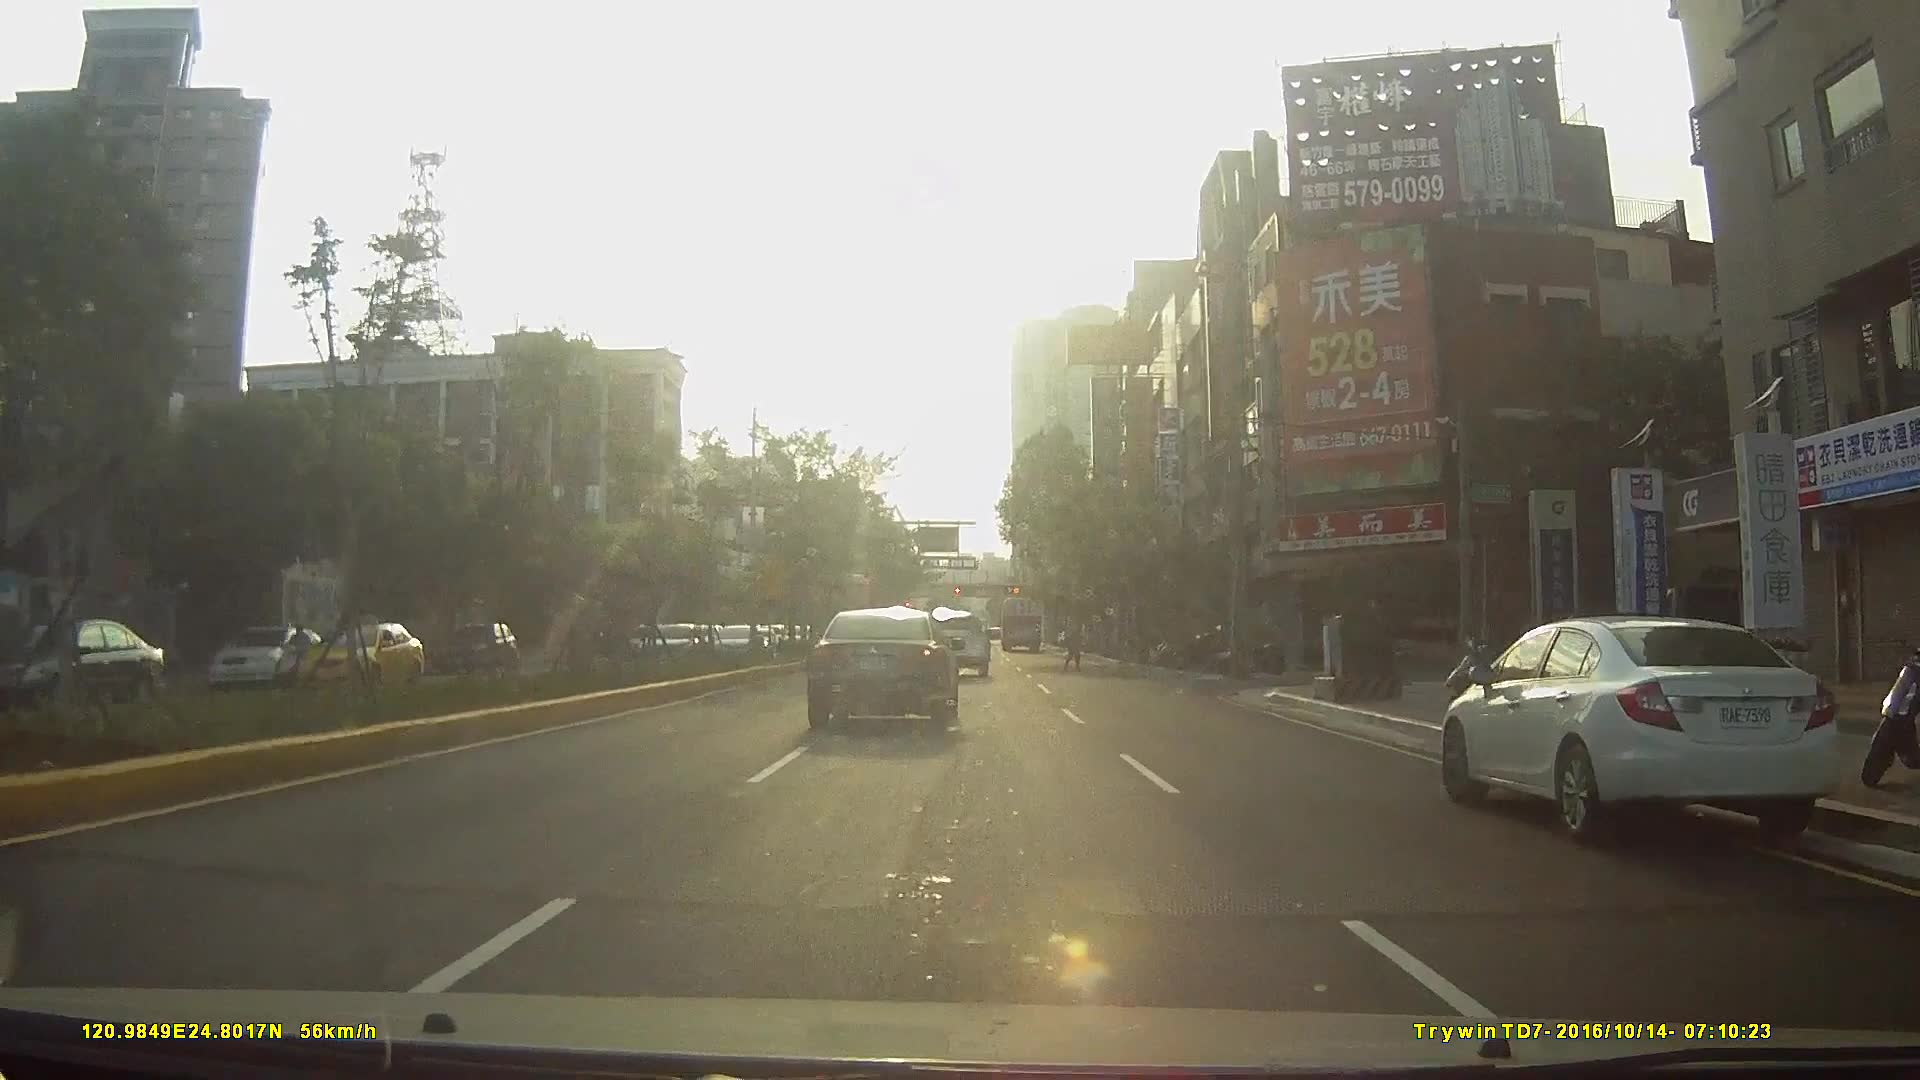vehicle: (1427, 611, 1855, 847), (7, 613, 199, 720), (806, 603, 963, 731), (264, 607, 435, 702), (200, 624, 318, 691), (916, 603, 992, 676), (314, 620, 402, 674), (429, 621, 516, 674), (636, 616, 713, 670), (998, 591, 1042, 647), (708, 622, 762, 665), (622, 618, 663, 655)
